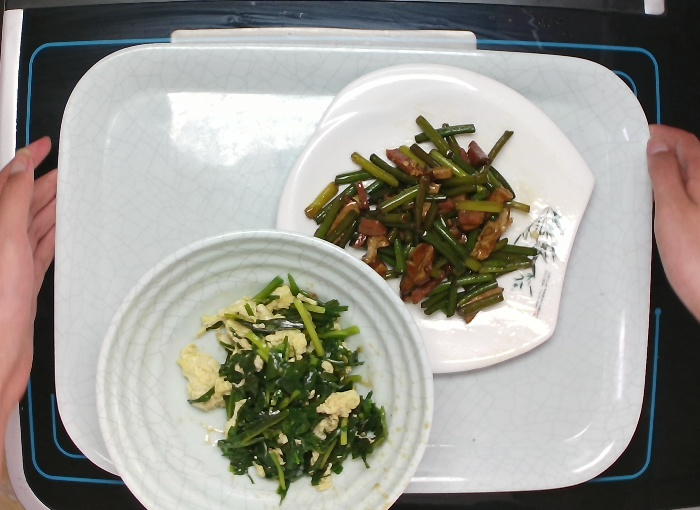JYsf-Da_Tang_Wan: (89, 223, 443, 510)
JYsf-Mian_Pan: (269, 57, 600, 383)
